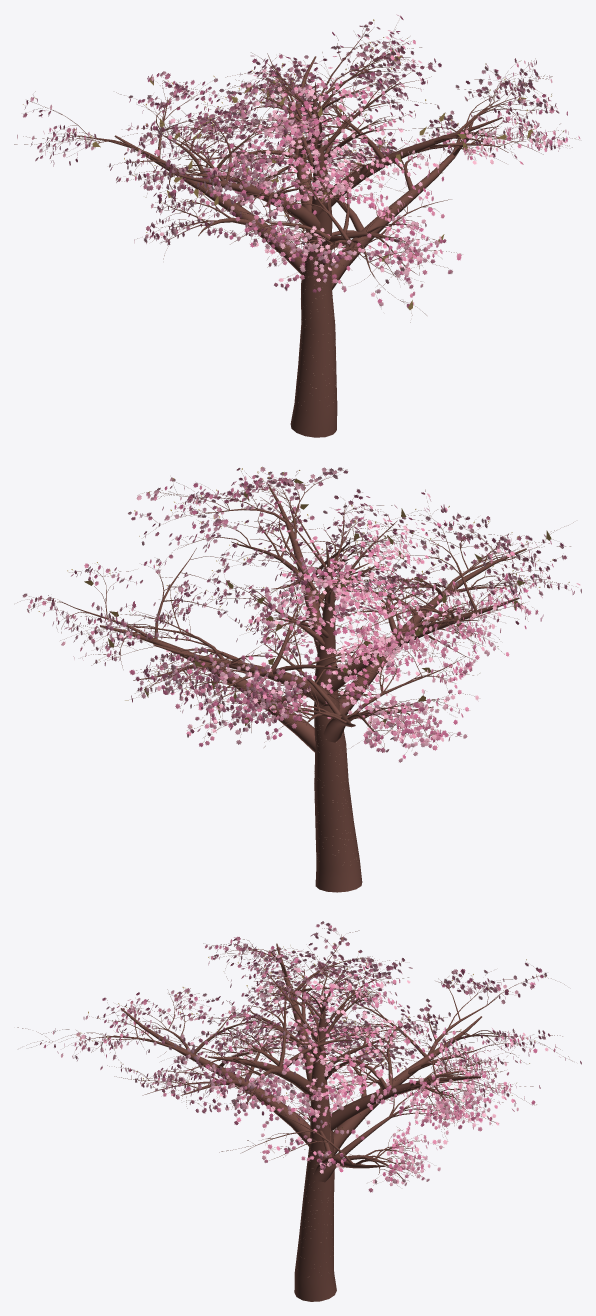
Rendered from kanzan_02.glb.
3 renders of one model, top to bottom at view 1: azimuth 30°, elevation 25°; view 2: azimuth 150°, elevation 25°; view 3: azimuth 270°, elevation 25°, orthographic. The views are drawn at different scales.
Parts seen in each view (by area): view 1: Kanzan Bark | warm reddish brown, Kanzan Petals | pale pink, Kanzan Petals | blush, Kanzan Petals | warm pink, Kanzan Young leaves | bronze green; view 2: Kanzan Bark | warm reddish brown, Kanzan Petals | pale pink, Kanzan Petals | blush, Kanzan Petals | warm pink, Kanzan Young leaves | bronze green; view 3: Kanzan Bark | warm reddish brown, Kanzan Petals | pale pink, Kanzan Petals | blush, Kanzan Petals | warm pink, Kanzan Young leaves | bronze green.
Boxes of the visible parts, box(x1,y1,x2,y2) form: Kanzan Bark | warm reddish brown: box(14, 25, 578, 437); Kanzan Petals | pale pink: box(17, 25, 564, 306); Kanzan Petals | blush: box(23, 14, 580, 297); Kanzan Petals | warm pink: box(26, 15, 567, 307); Kanzan Young leaves | bronze green: box(23, 19, 575, 283); Kanzan Bark | warm reddish brown: box(17, 468, 576, 892); Kanzan Petals | pale pink: box(22, 467, 580, 762); Kanzan Petals | blush: box(29, 468, 581, 752); Kanzan Petals | warm pink: box(35, 477, 572, 758); Kanzan Young leaves | bronze green: box(38, 467, 569, 735); Kanzan Bark | warm reddish brown: box(17, 925, 572, 1301); Kanzan Petals | pale pink: box(40, 921, 560, 1185); Kanzan Petals | blush: box(54, 923, 555, 1192); Kanzan Petals | warm pink: box(44, 938, 581, 1181); Kanzan Young leaves | bronze green: box(76, 937, 545, 1167).
Size of the model in its own units: 7.93 by 6.17 by 9.07.
